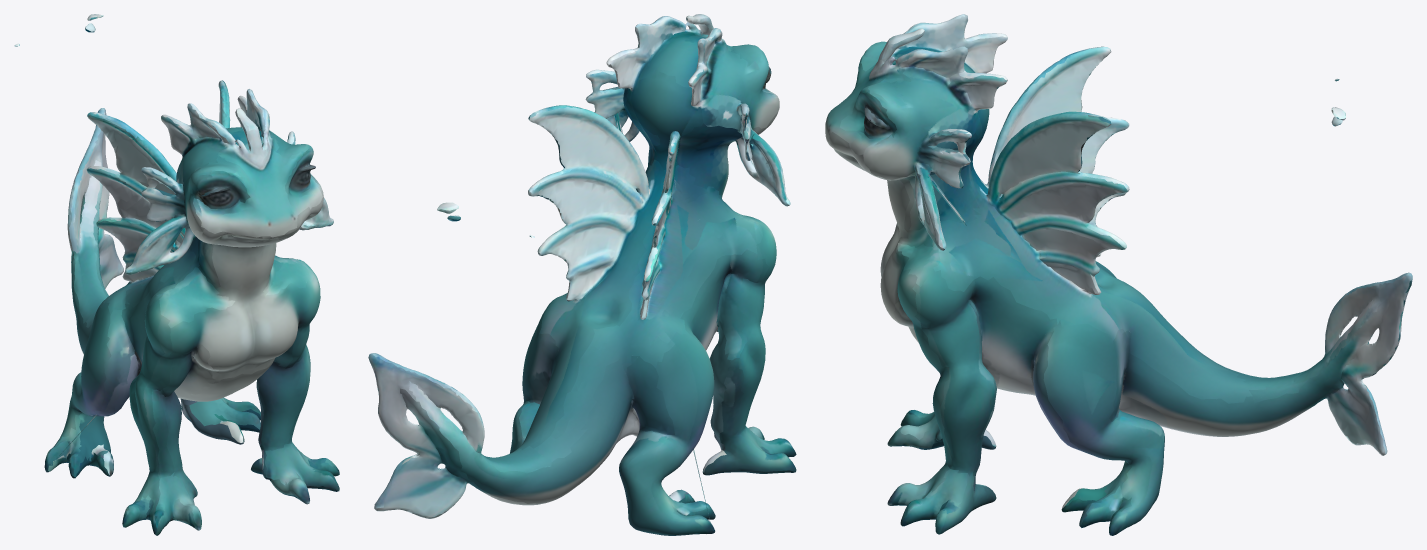
Rendered from water_model_lvl4.glb.
The picture shows the model from 3 angles, left to right: view 1: azimuth 30°, elevation 25°; view 2: azimuth 150°, elevation 25°; view 3: azimuth 270°, elevation 25°; orthographic projection. The views are drawn at different scales.
Parts seen in each view (by area): view 1: tmprq3x861h.ply; view 2: tmprq3x861h.ply; view 3: tmprq3x861h.ply.
Boxes of the visible parts, x1,y1,x2,y2 form: tmprq3x861h.ply: (14,14,339,535); tmprq3x861h.ply: (368,14,796,535); tmprq3x861h.ply: (825,14,1412,535).
Bounding box in the file's own units: 0.9442 × 1.67 × 1.97.
1 material, 1 textured.
